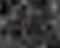nine: (23, 19, 27, 27)
one: (18, 19, 22, 27)
three: (33, 20, 37, 28)
two: (28, 19, 32, 28)
